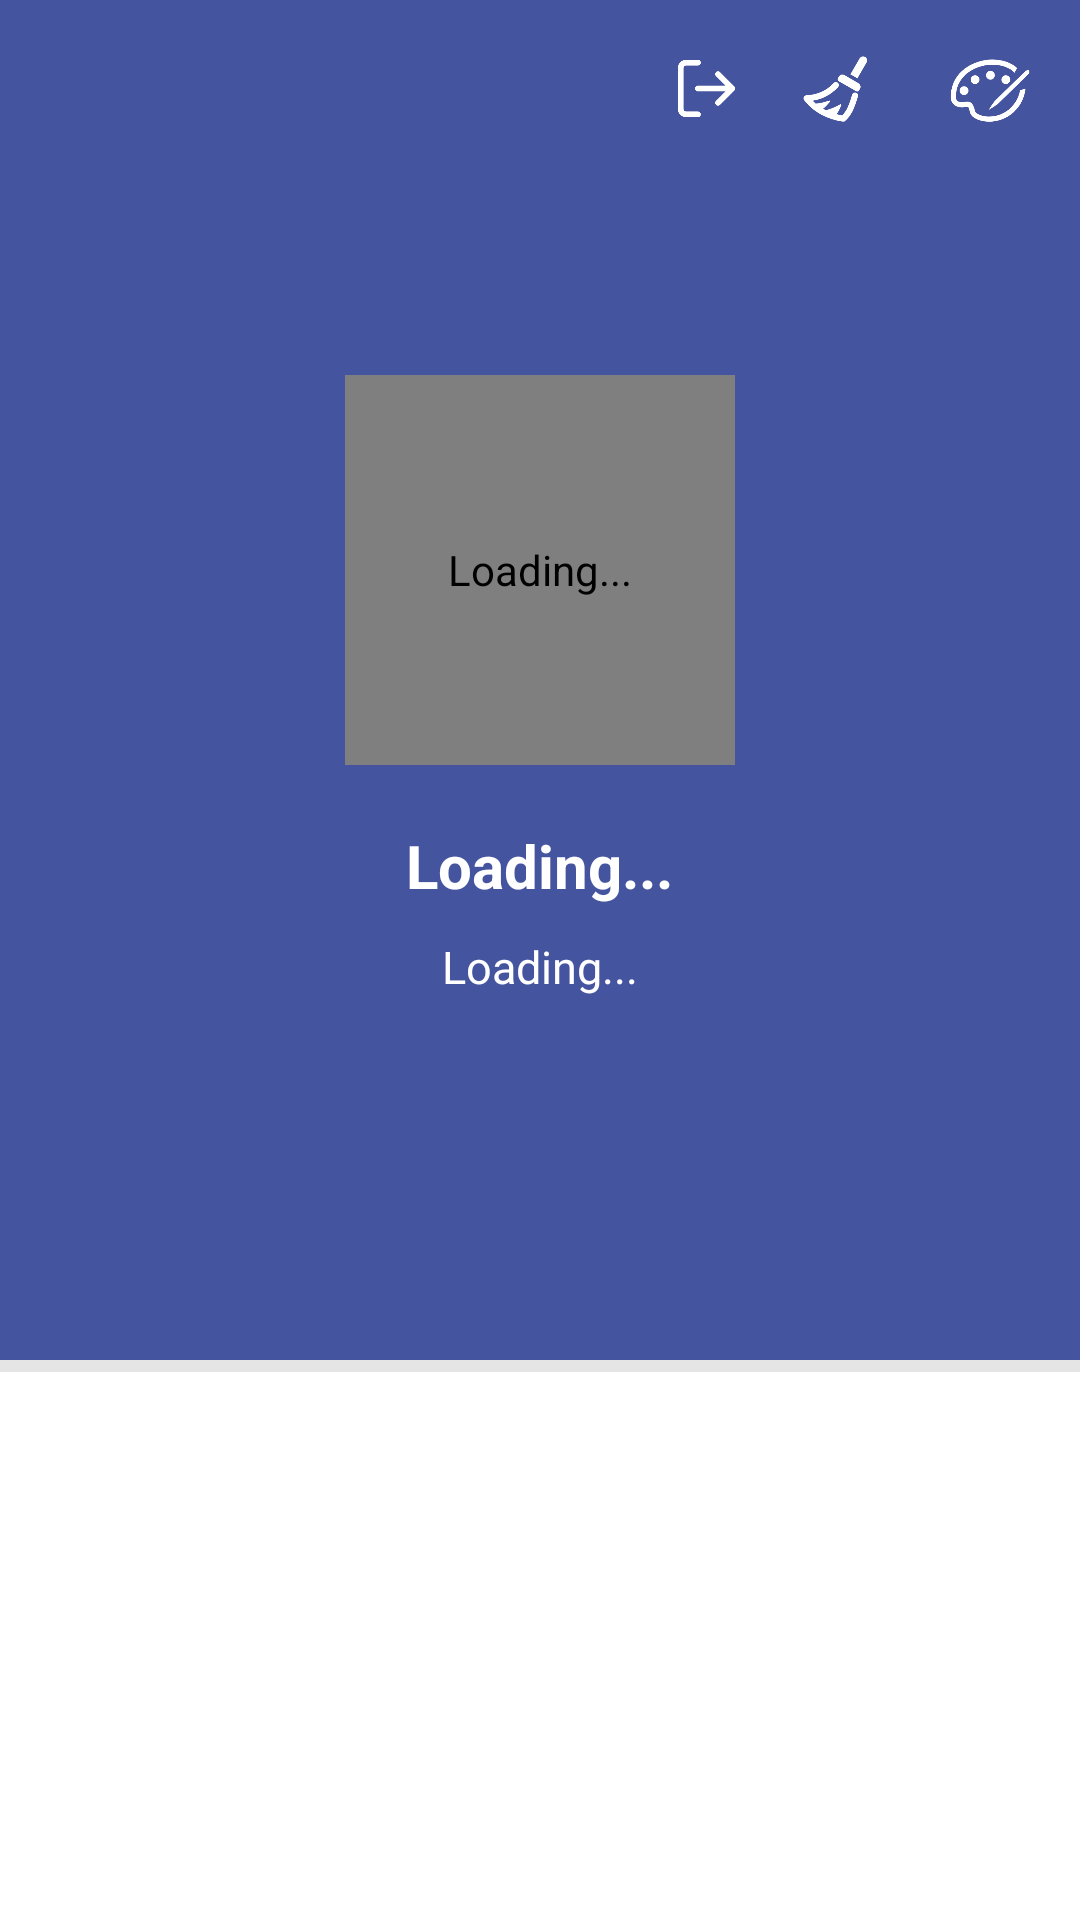

Icons on this 1080px x 1920px Android screen, each with the point to tap as [x,y]:
clear: [835,89]
